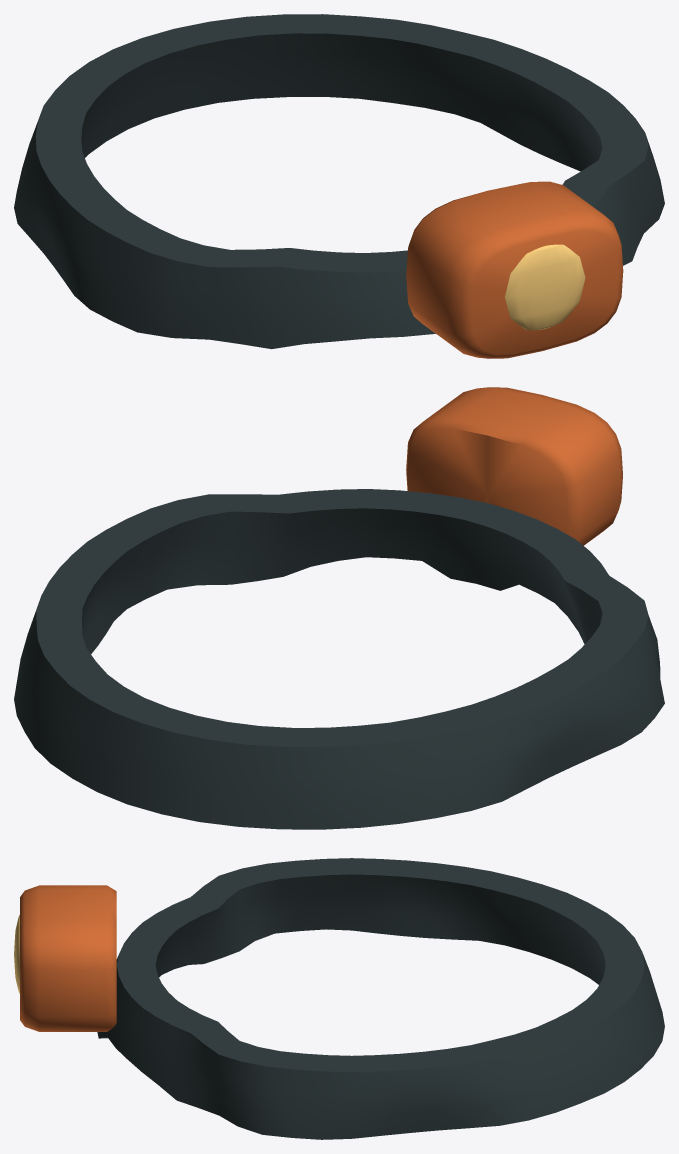
The model's file is gear-headlamp.glb.
The picture shows the model from 3 angles, top to bottom: view 1: azimuth 30°, elevation 25°; view 2: azimuth 150°, elevation 25°; view 3: azimuth 270°, elevation 25°; orthographic projection. The views are drawn at different scales.
Parts seen in each view (by area): view 1: Gear_Headlamp; view 2: Gear_Headlamp; view 3: Gear_Headlamp.
Boxes of the visible parts, x1=… form: Gear_Headlamp: x1=14, y1=14, x2=664, y2=358; Gear_Headlamp: x1=14, y1=387, x2=664, y2=829; Gear_Headlamp: x1=14, y1=858, x2=664, y2=1139.
Size of the model in its own units: 0.2217 by 0.0559 by 0.2691.
